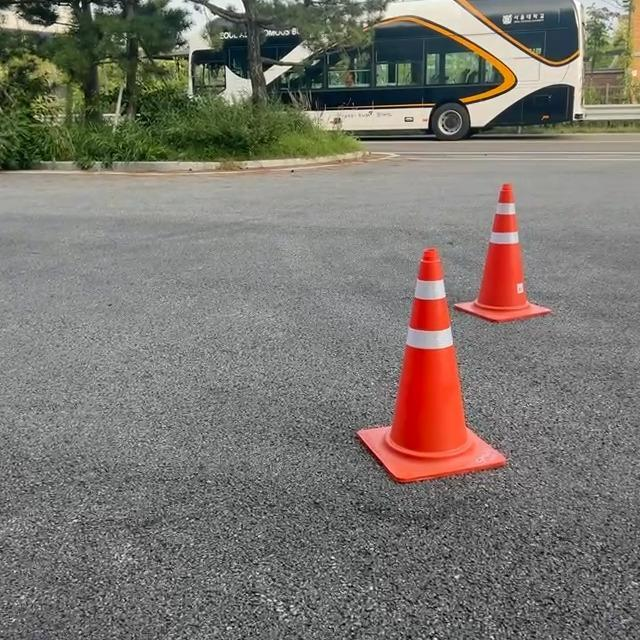fallen_object: (303, 245, 526, 532), (413, 167, 572, 363)
